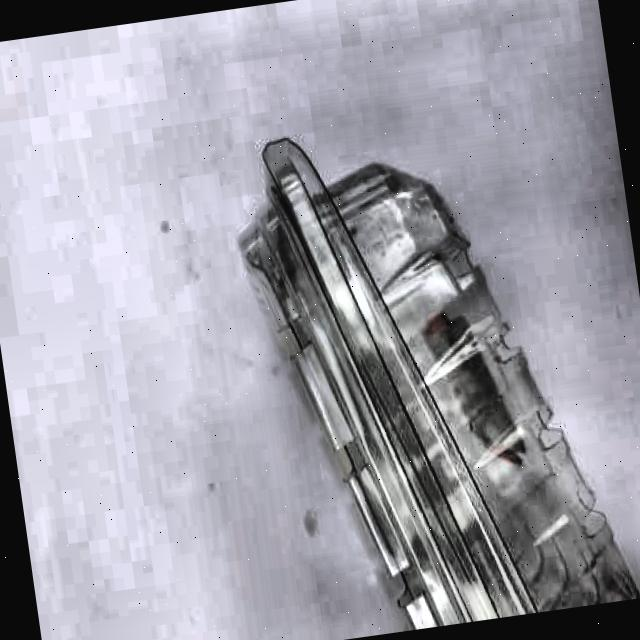plastic: (223, 103, 638, 640)
